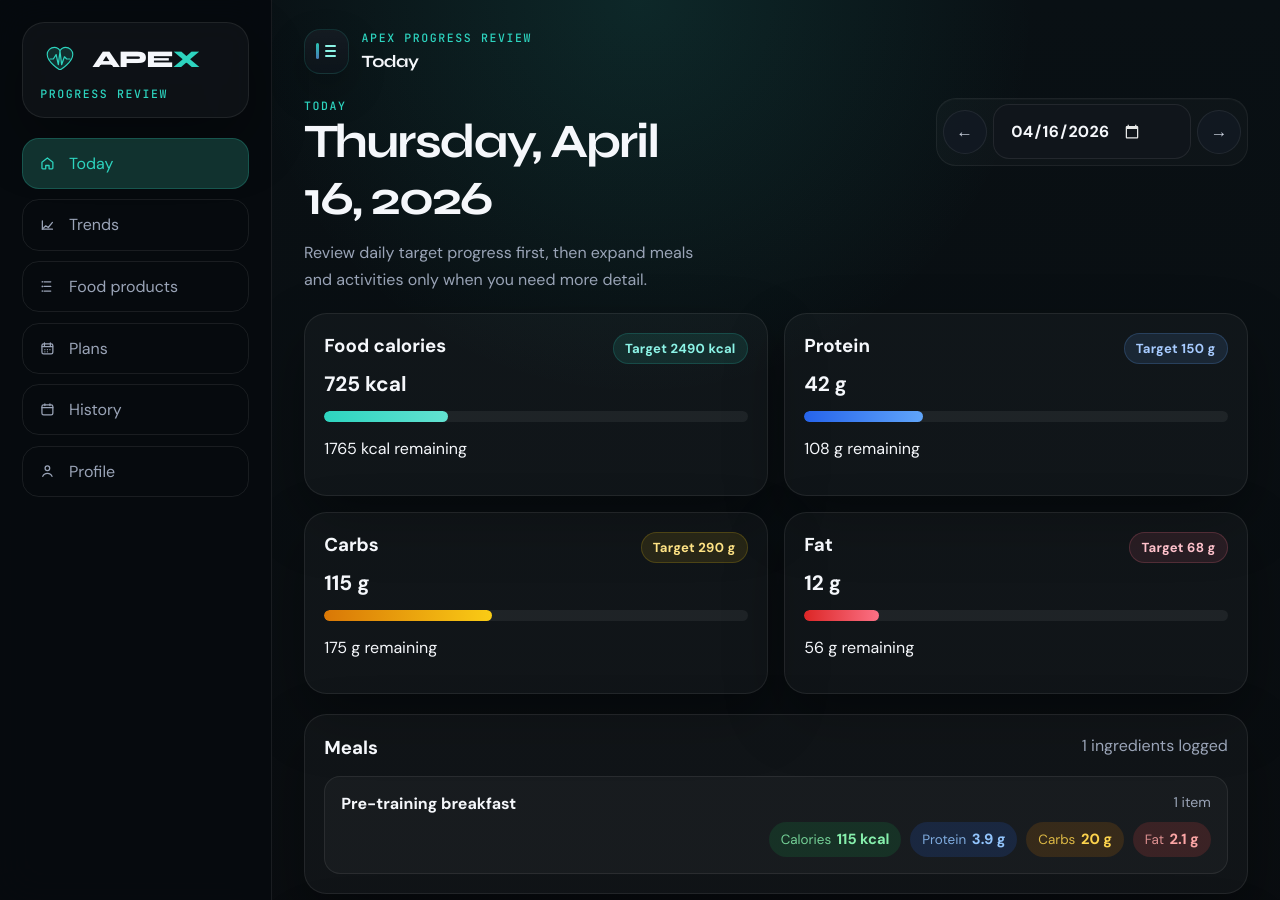
Test: App › loads plans lazily and renders calendar plus comparison states
This screenshot has width=1280, height=900.
Click the button "Plans" at coordinates (136, 348), box [22, 322, 249, 374]
(page scrolled)
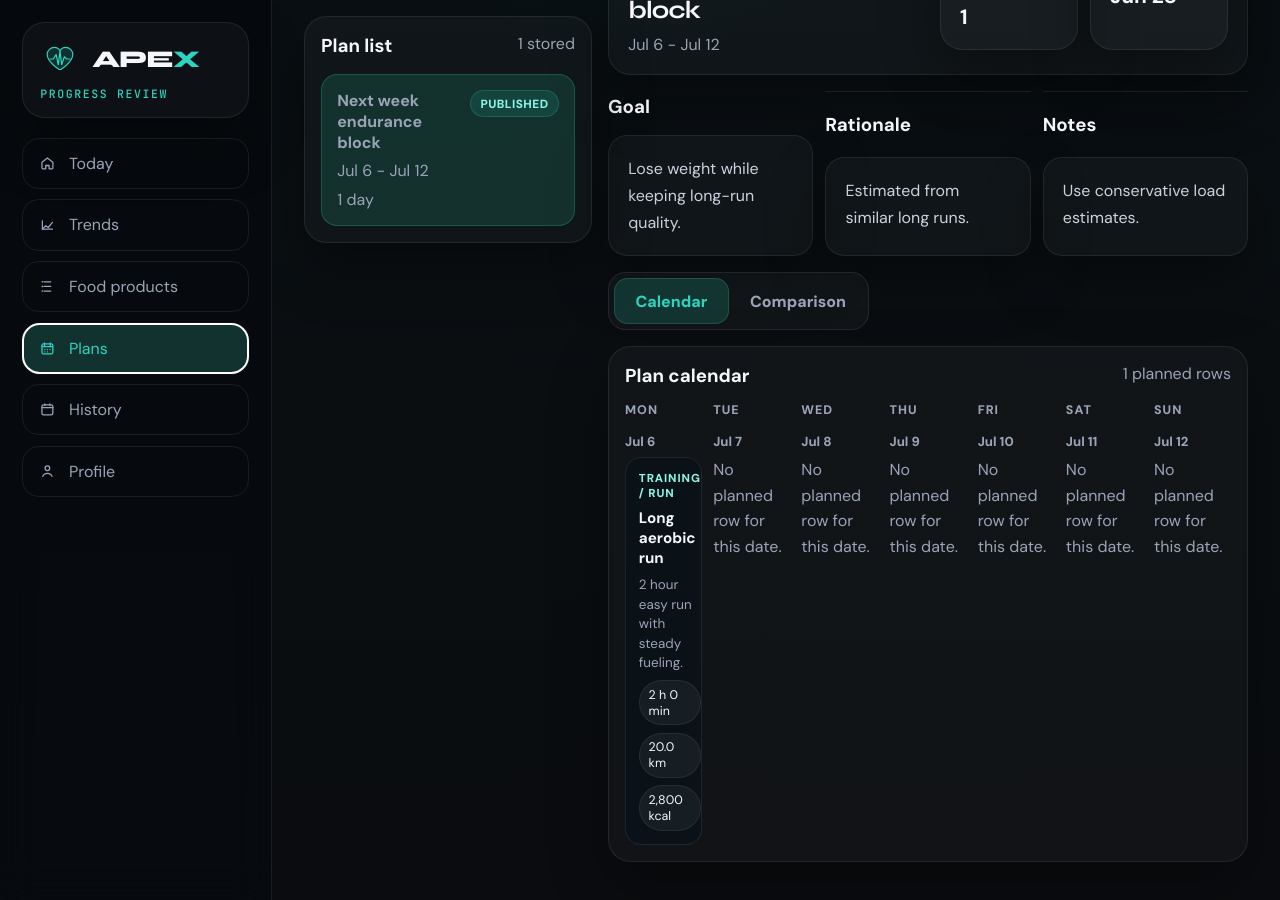
expect the text "Next week endurance block" is shown: met, box [337, 90, 422, 153]
expect the heading "Plan calendar" is shown: met, box [625, 363, 749, 388]
expect the text "Long aerobic run" is shown: met
Click the text "Long aerobic run" at coordinates (670, 538), box [639, 508, 701, 568]
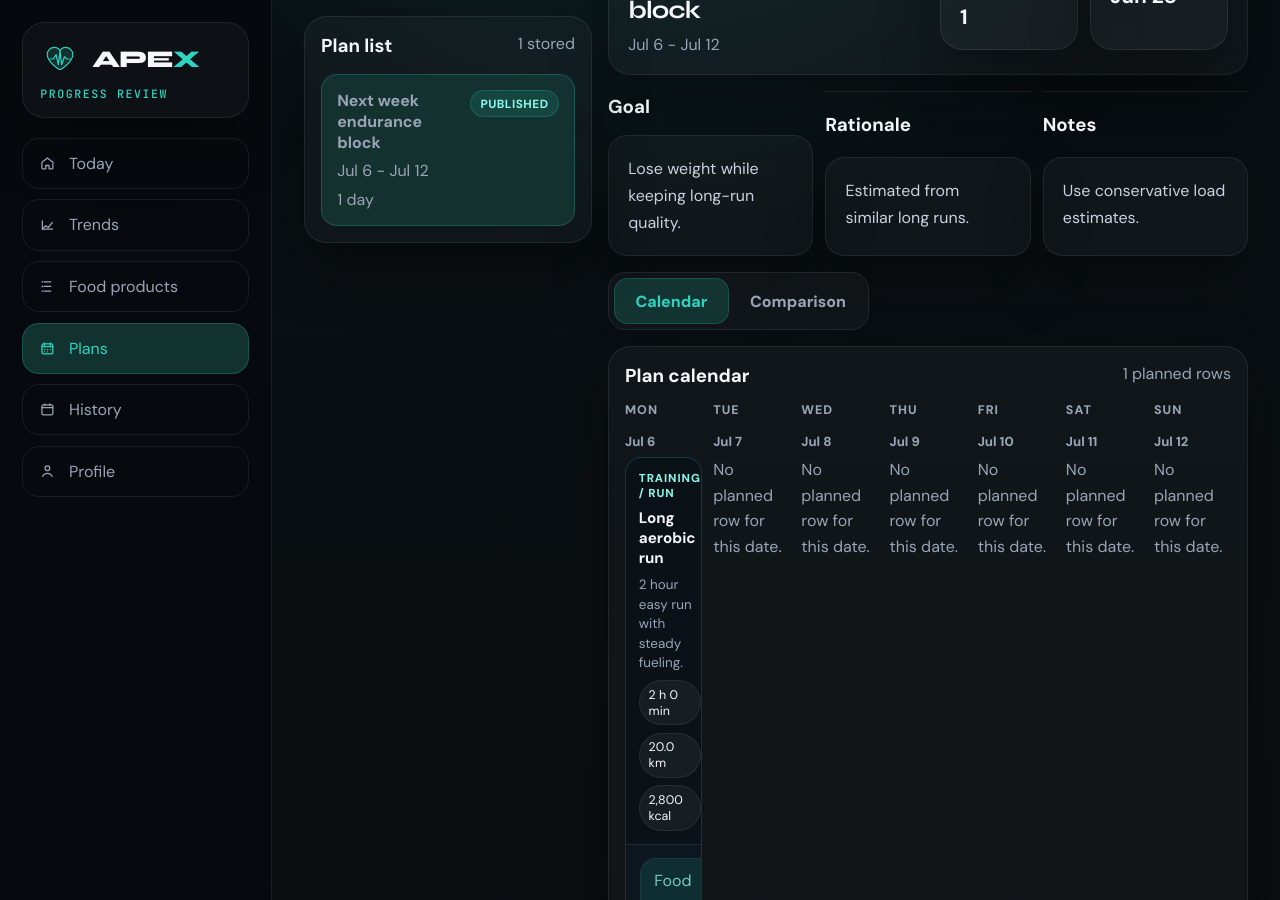
Click the button "Comparison" at coordinates (798, 301), box [733, 278, 863, 324]
(page scrolled)
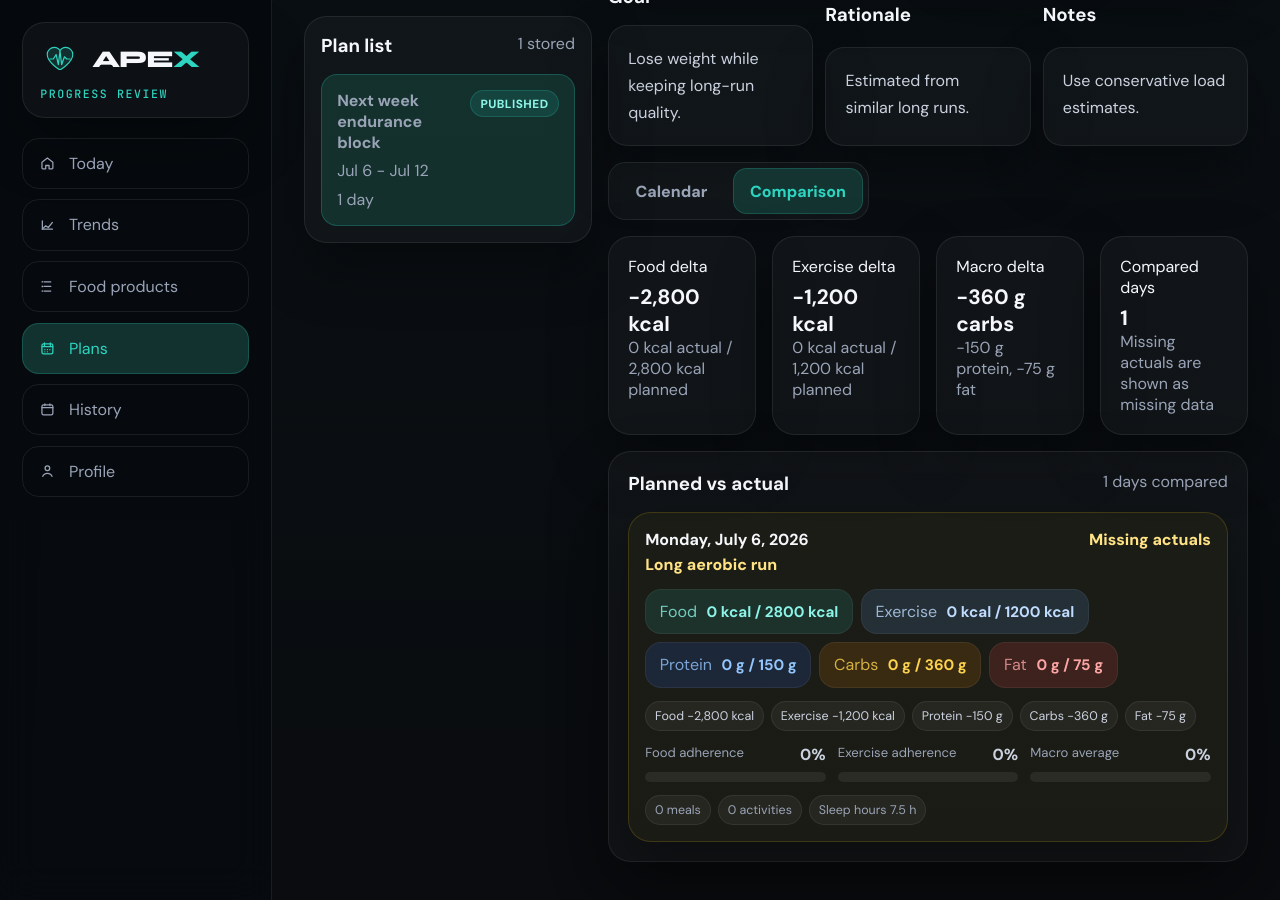
expect the text "Food delta" is shown: met, box [628, 256, 707, 277]
expect the text "Missing actuals" is shown: met, box [1089, 529, 1211, 550]
expect the text "Sleep hours 7.5 h" is shown: met, box [809, 795, 926, 825]
